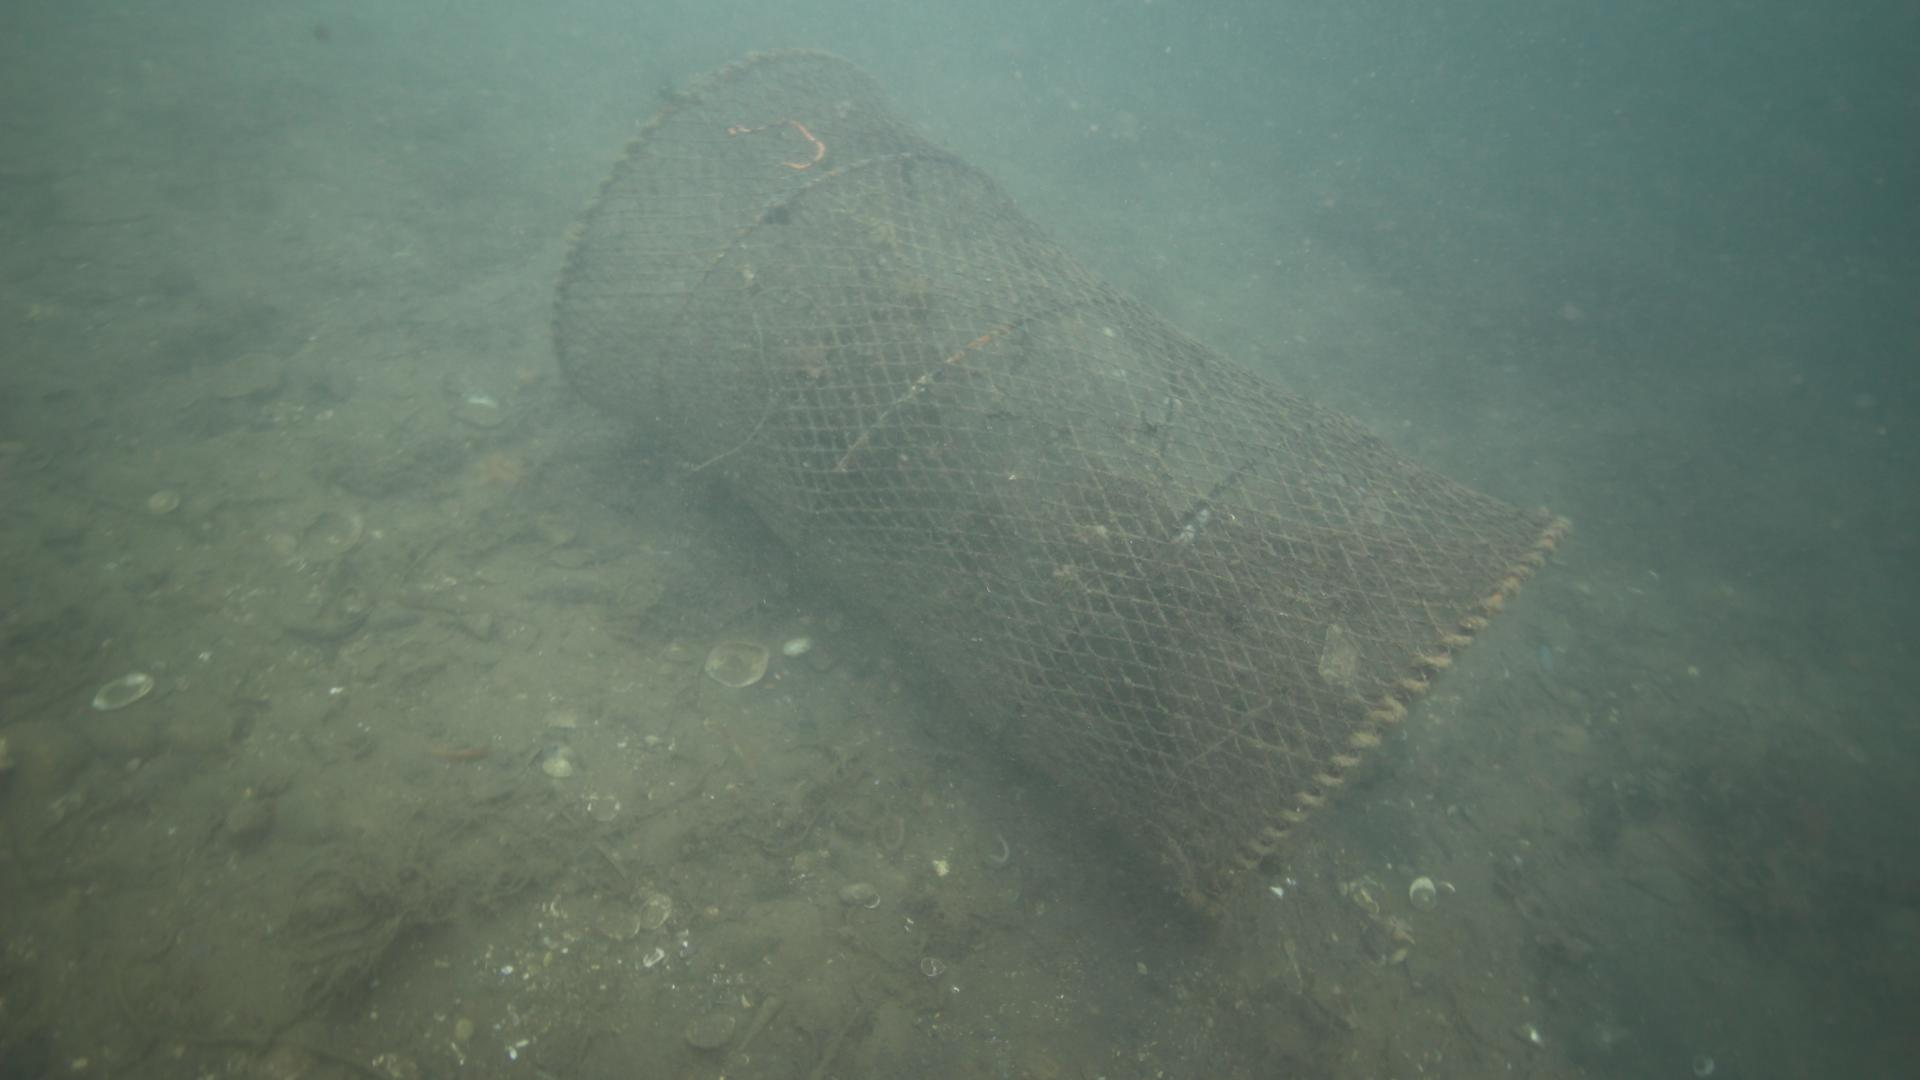spring fish trap: (546, 46, 1581, 940)
